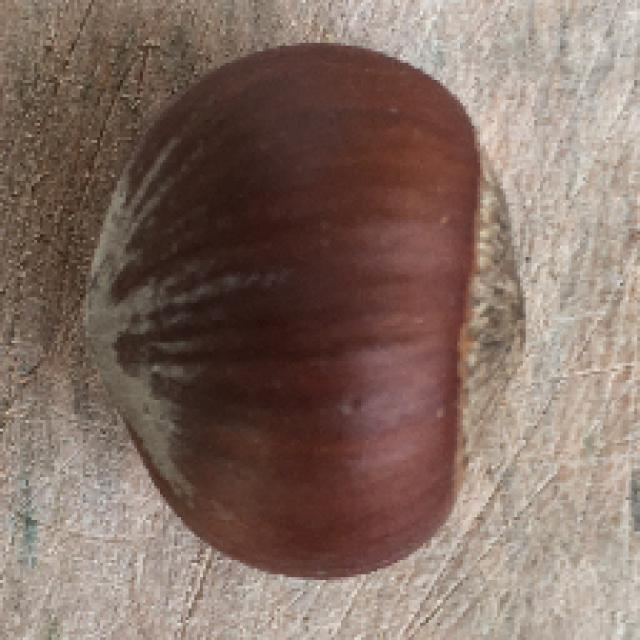qualityHazelnut: (79, 42, 532, 580)
